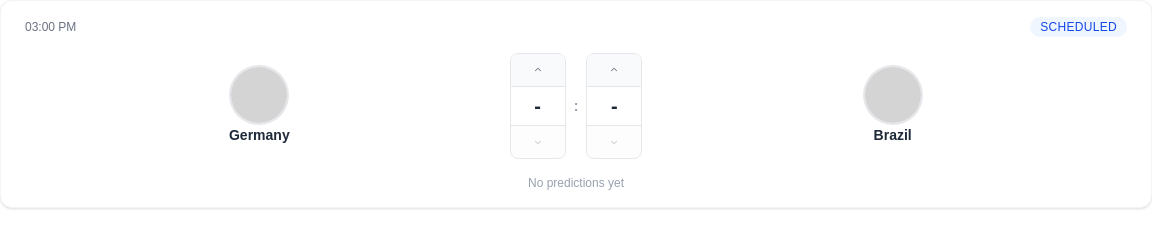
Scenario: MatchCard › increment button increases the away counter independently
Click the button named "Increase Brazil score": (614, 70) [587,54,641,86]
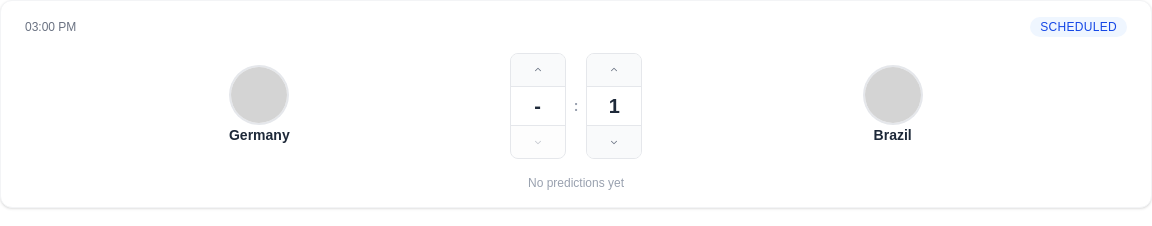
Click the button named "Increase Brazil score": (614, 70) [587,54,641,86]
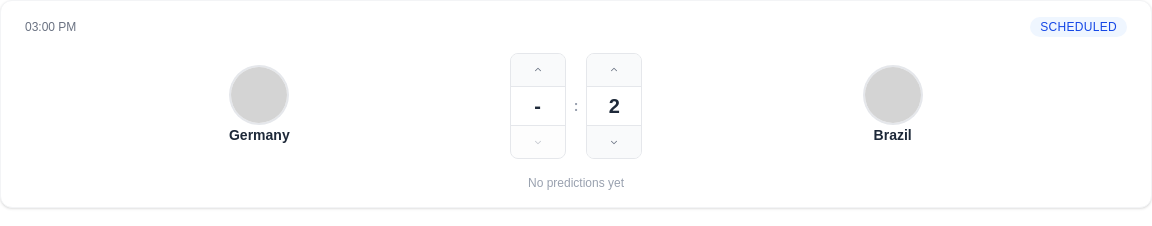
Check: the text "2" is shown, box [609,92,620,120]
